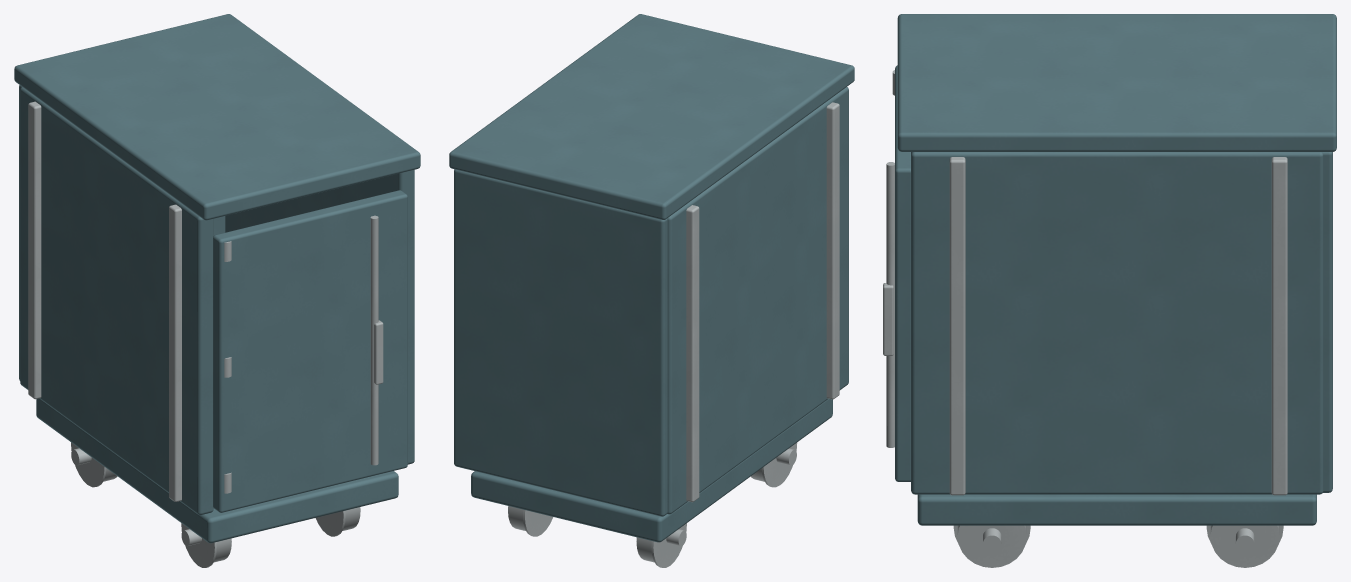
The model's file is gorgehold-survivor-gallery-and-operations-cargo-railwa-607977d7__32891.glb.
3 renders of one model, left to right at view 1: azimuth 30°, elevation 25°; view 2: azimuth 150°, elevation 25°; view 3: azimuth 270°, elevation 25°, orthographic. The views are drawn at different scales.
Parts seen in each view (by area): view 1: cargo-railway-insulated-carriage; view 2: cargo-railway-insulated-carriage; view 3: cargo-railway-insulated-carriage.
Boxes of the visible parts, left/top/right/bottom form: cargo-railway-insulated-carriage: left=14, top=14, right=420, bottom=567; cargo-railway-insulated-carriage: left=449, top=14, right=854, bottom=567; cargo-railway-insulated-carriage: left=883, top=14, right=1336, bottom=567.
Bounding box in the file's own units: 1.15 × 1.9 × 1.71.
Materials: 2 (2 with a texture image).
